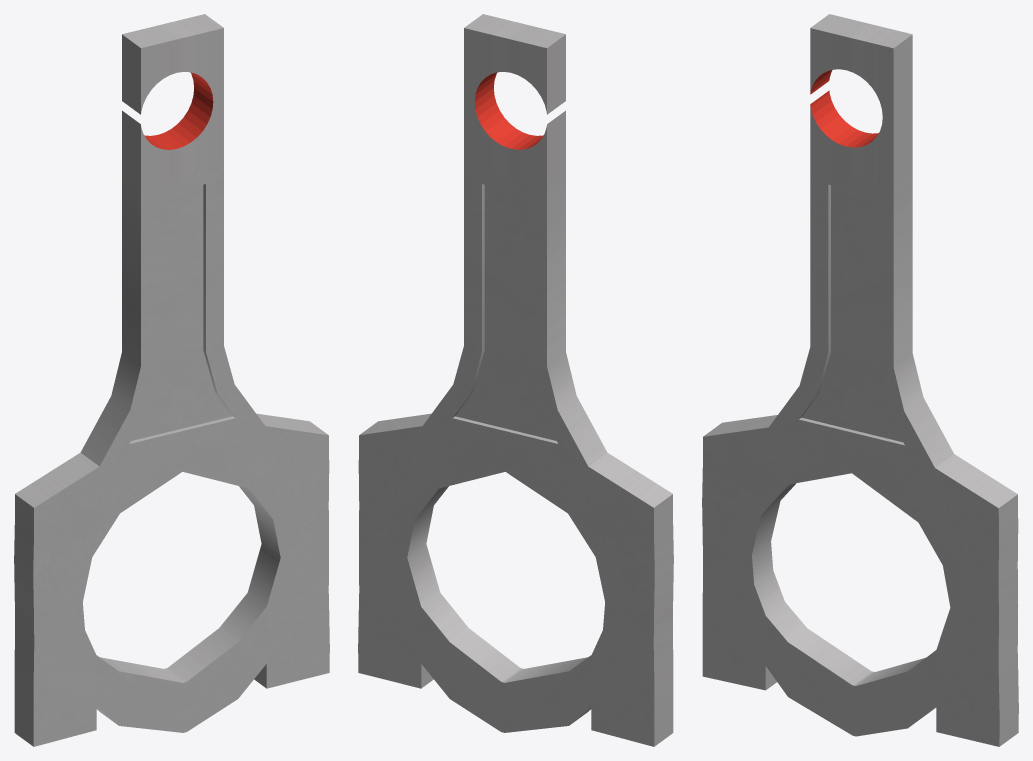
The model's file is bottom.fbx.
3 renders of one model, left to right at view 1: azimuth 30°, elevation 25°; view 2: azimuth 150°, elevation 25°; view 3: azimuth 330°, elevation 25°, orthographic.
Visible parts, largest first — view 1: Cylinder.018; view 2: Cylinder.018; view 3: Cylinder.018.
Boxes of the visible parts, bbox=[...] form: Cylinder.018: bbox=[14, 14, 329, 746]; Cylinder.018: bbox=[358, 14, 673, 746]; Cylinder.018: bbox=[702, 14, 1018, 746].
Size of the model in its own units: 314 by 703 by 35.06.
2 materials, 1 textured.
